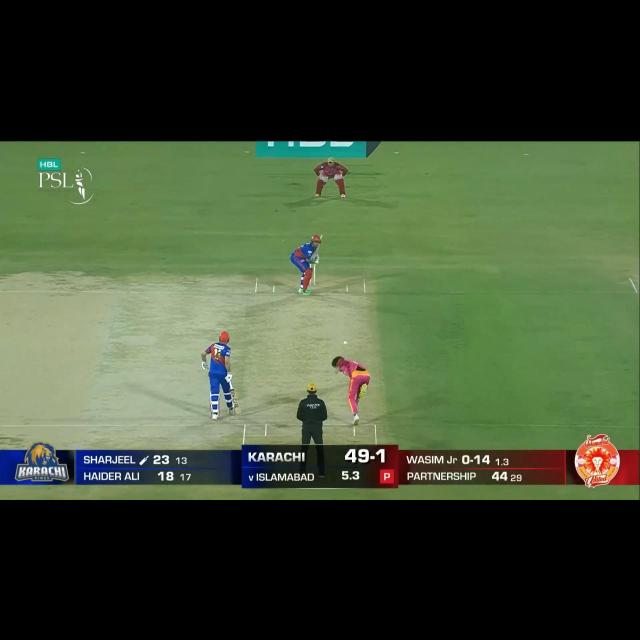bat: (230, 388, 243, 416), (311, 234, 323, 259)
toe: (234, 408, 242, 416), (319, 233, 324, 239)
